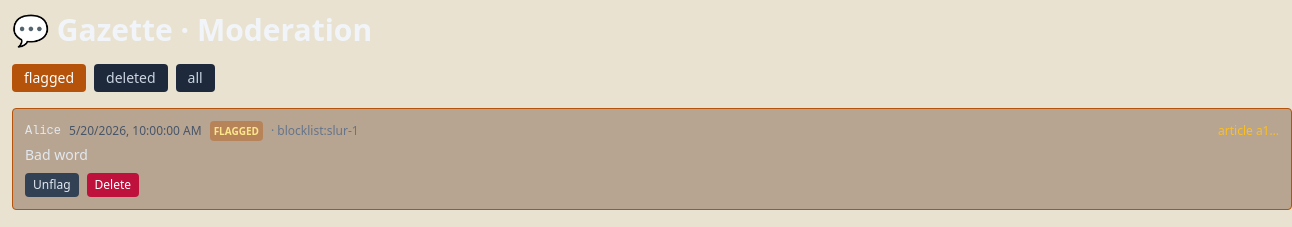
Test: AdminGazetteCommentsPage › delete appelle l'endpoint et reload
Click the button with test id "admin-comment-delete-c1".
click(113, 185)  # box [86,173,139,197]
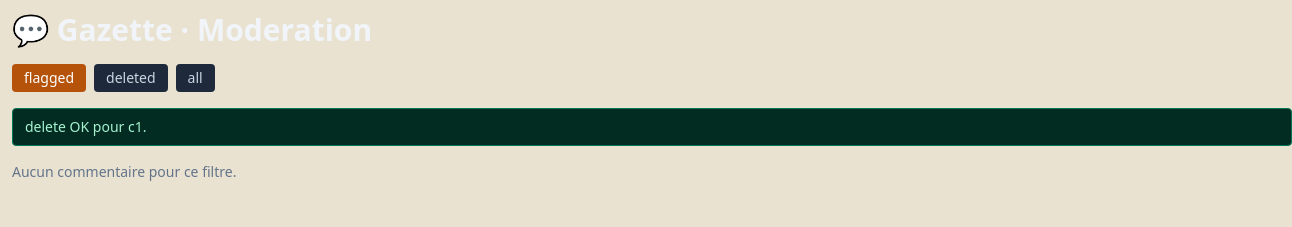
Check: the text "delete OK pour c1." is shown, box [12,108,1291,146]
